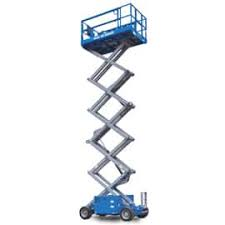Scissor Lift: (78, 3, 150, 222)
